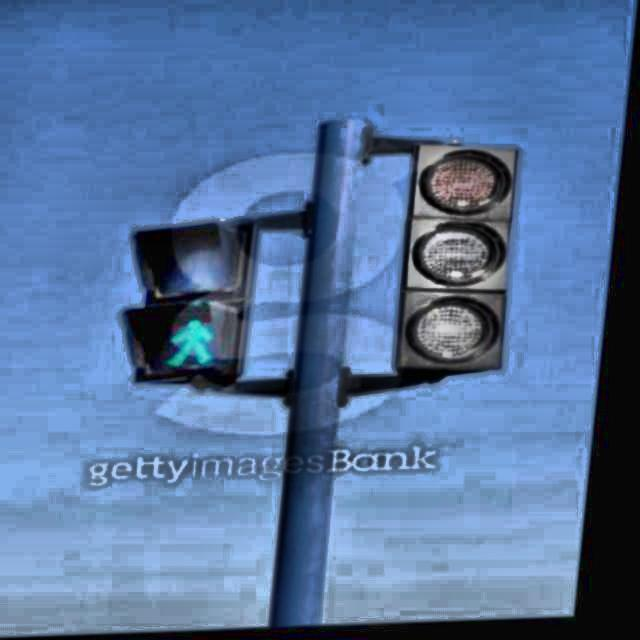semaforo pedestre: (37, 186, 346, 434)
